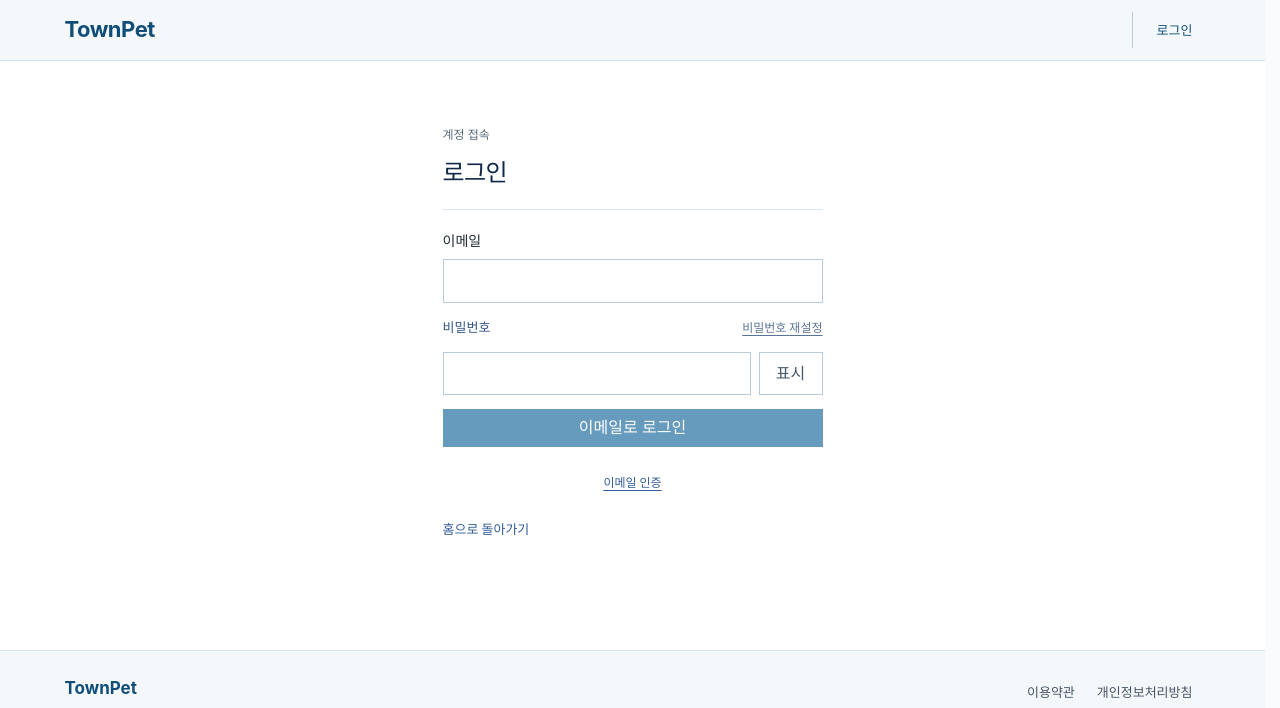
Test case: Credentials journeys › does not redirect a successful login back to the credentials route
Type "demo-member-1@townpet.local" into the field labelled "이메일" at (632, 281), box [442, 259, 822, 303]
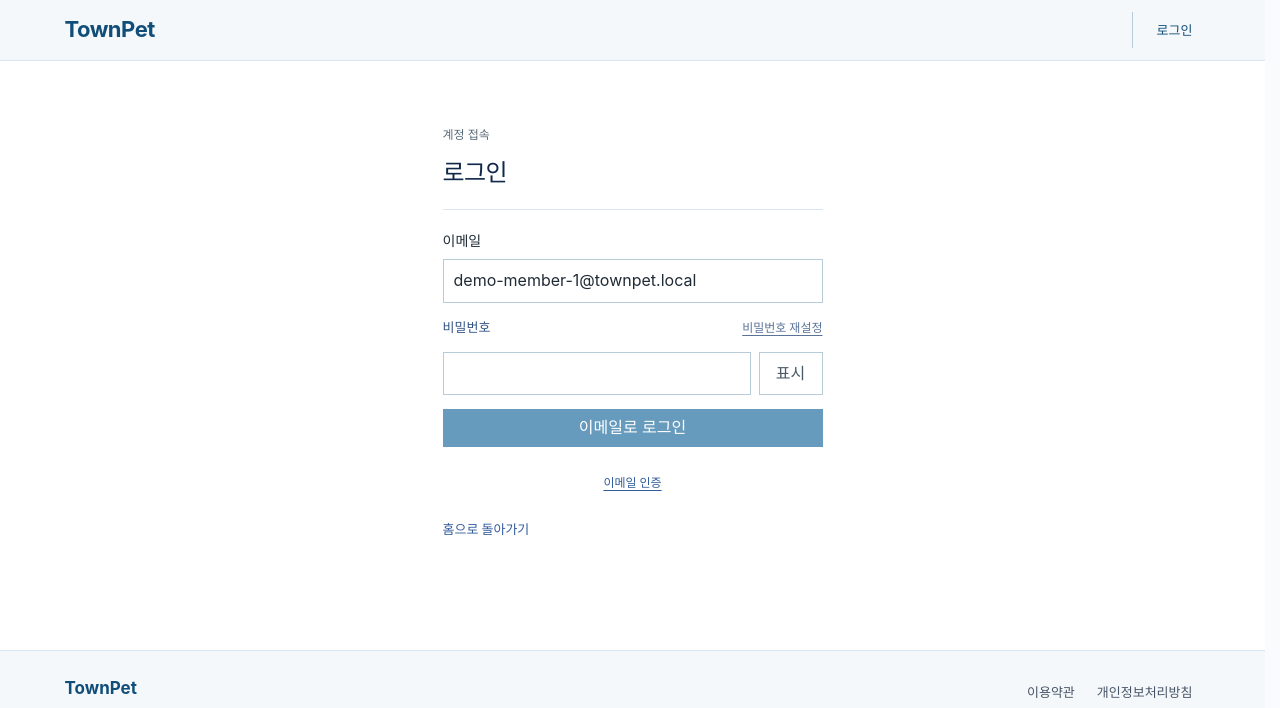
Type "townpet-demo-123!" into the password field named "비밀번호" at (596, 374), box [442, 352, 750, 395]
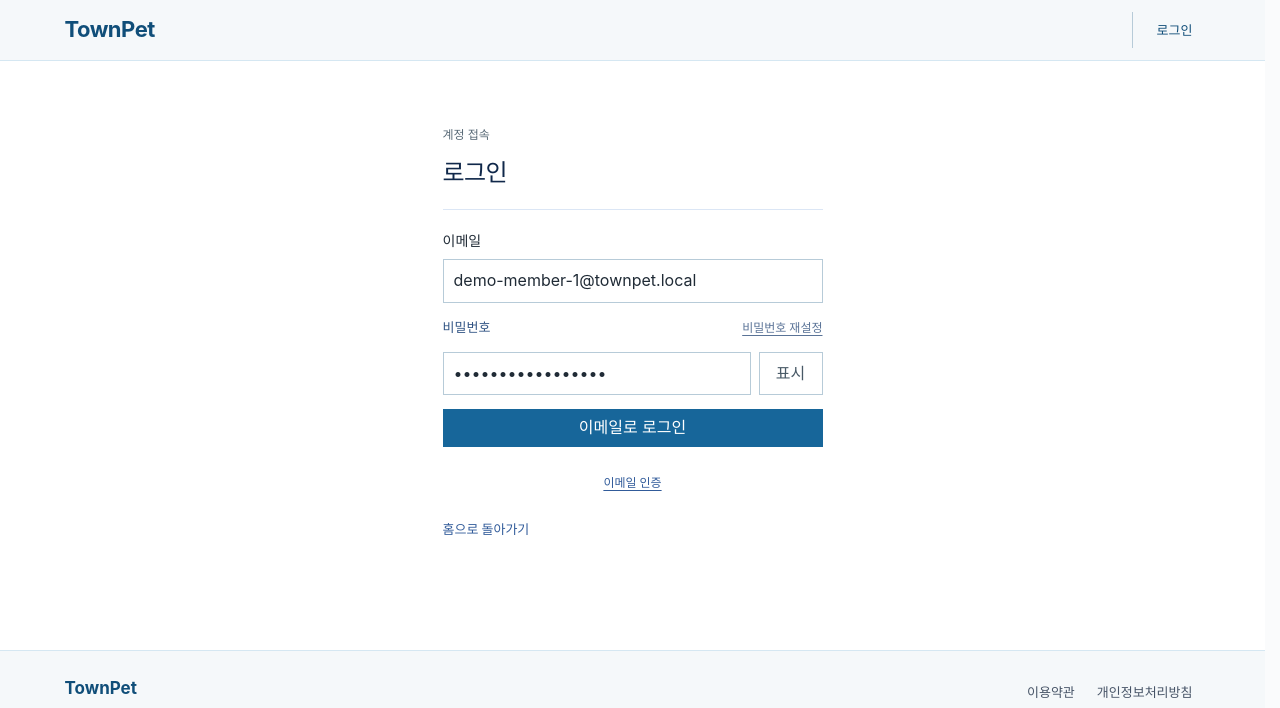
Click the button "이메일로 로그인" at (632, 428), box [442, 409, 822, 447]
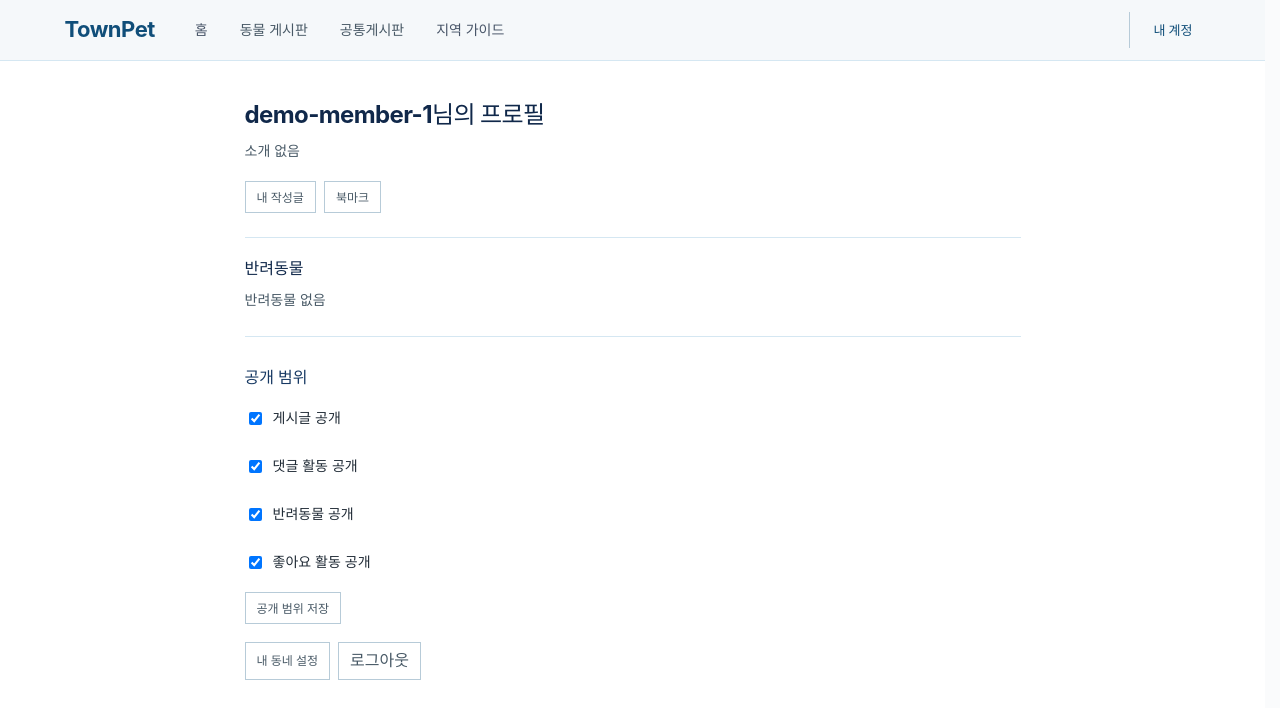
Expected: the heading "demo-member-1님의 프로필" is shown, [244, 100, 544, 129]
Expected: the link "로그인" is gone
